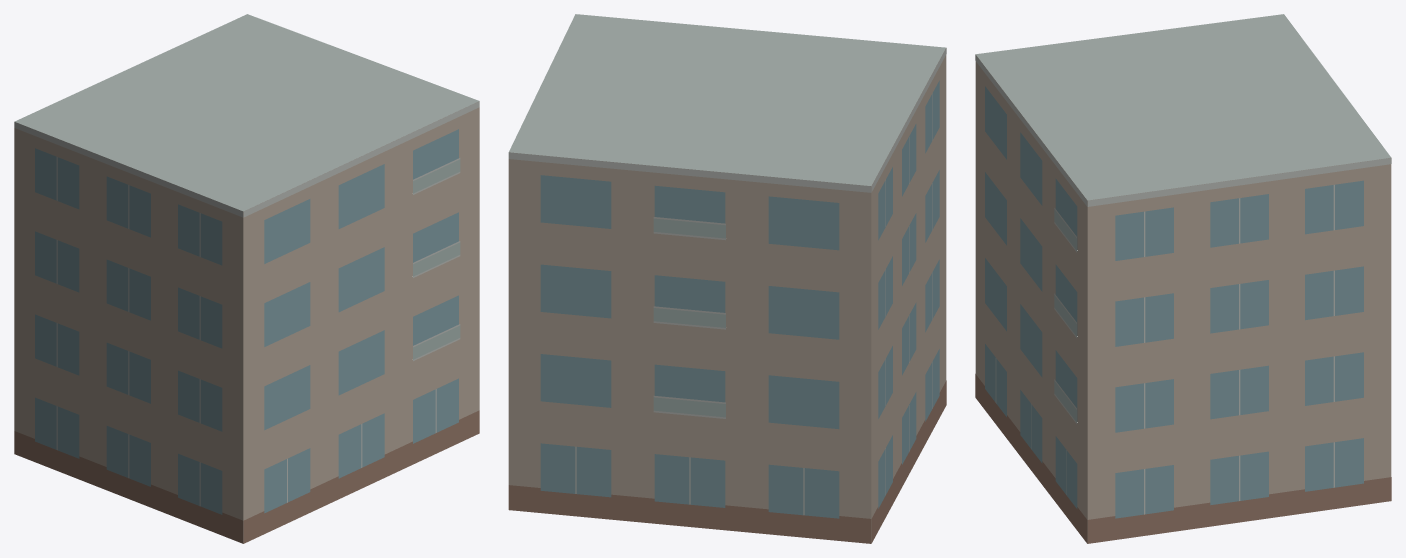
File: survey-upis-32997775.glb
The picture shows the model from 3 angles, left to right: view 1: azimuth 30°, elevation 25°; view 2: azimuth 150°, elevation 25°; view 3: azimuth 270°, elevation 25°; orthographic projection. The views are drawn at different scales.
Visible parts, largest first — view 1: survey-upis-32997775.tmp; view 2: survey-upis-32997775.tmp; view 3: survey-upis-32997775.tmp.
Part boxes in pixels (x1,y1,x2,y2): survey-upis-32997775.tmp: [14, 14, 479, 543]; survey-upis-32997775.tmp: [508, 14, 946, 543]; survey-upis-32997775.tmp: [975, 14, 1391, 543].
Size of the model in its own units: 15.16 by 13 by 14.29.
